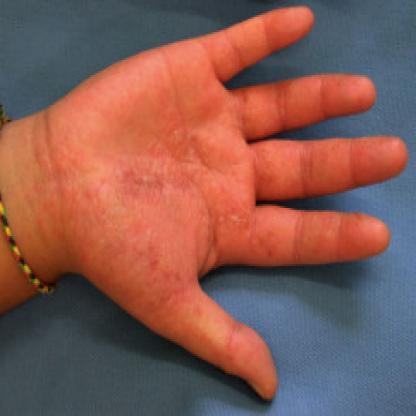Eczema: (135, 166, 172, 220), (117, 150, 152, 198), (212, 203, 252, 242), (36, 147, 74, 188), (77, 173, 115, 213), (152, 123, 186, 164), (156, 269, 190, 309), (100, 240, 135, 278), (188, 91, 220, 132), (138, 238, 167, 280), (248, 228, 280, 262), (168, 164, 196, 201), (180, 297, 210, 330), (203, 174, 229, 212), (40, 192, 69, 226), (251, 149, 276, 188), (177, 136, 207, 168)
